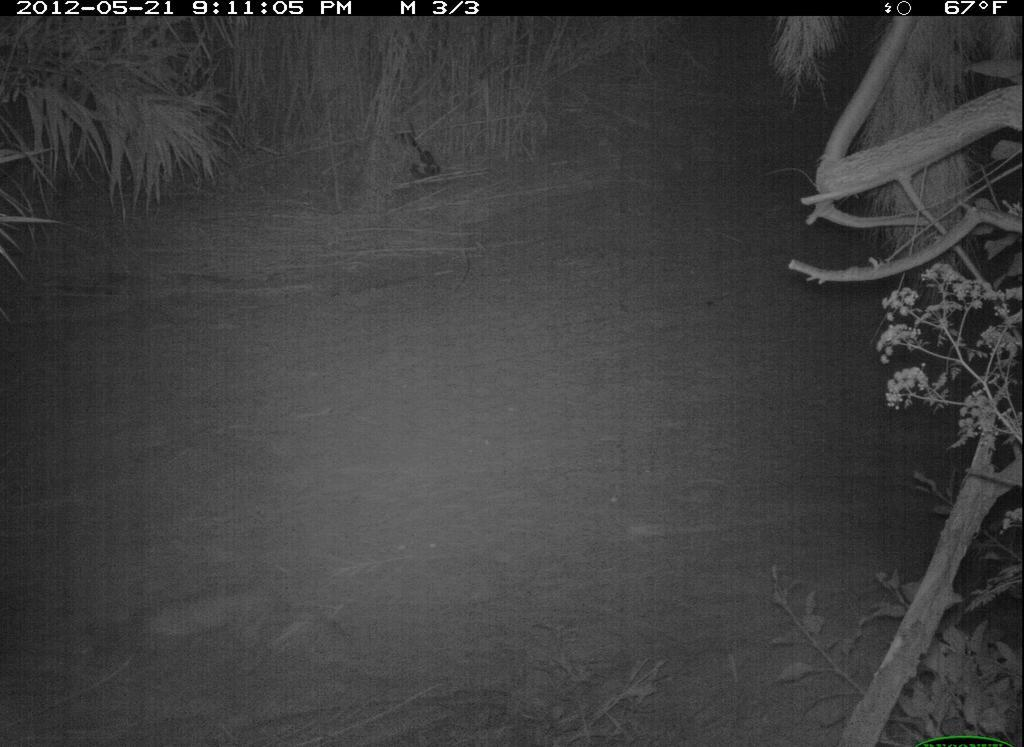bobcat: (84, 577, 342, 707)
